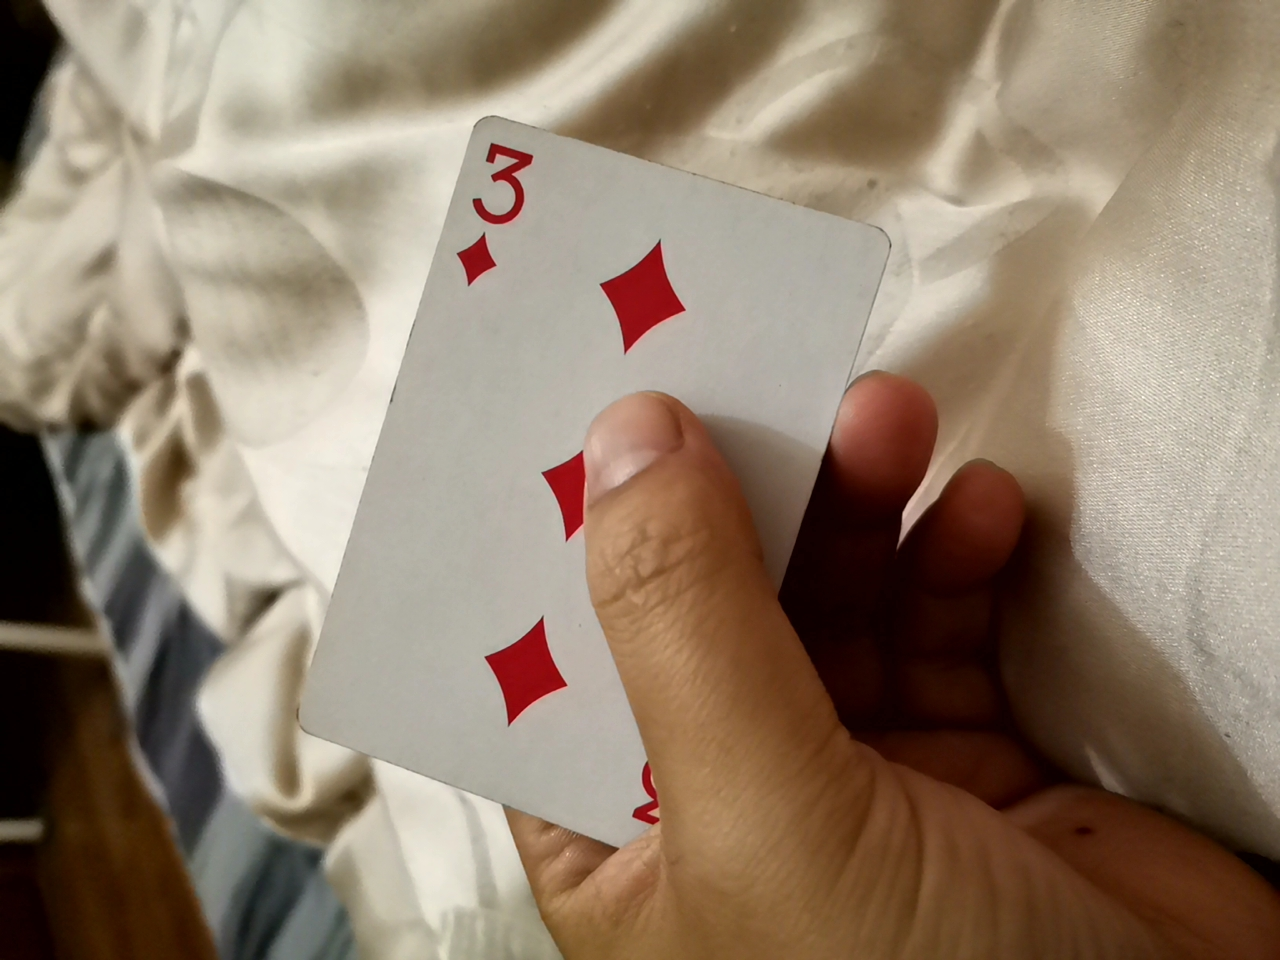fk 3: (336, 83, 897, 863)
